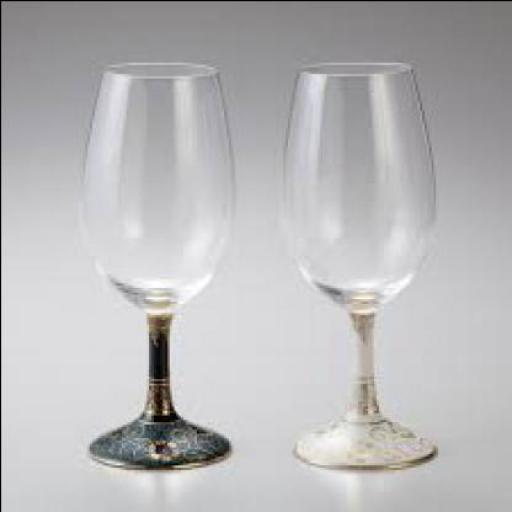glass: (284, 59, 434, 467), (86, 59, 228, 478)
